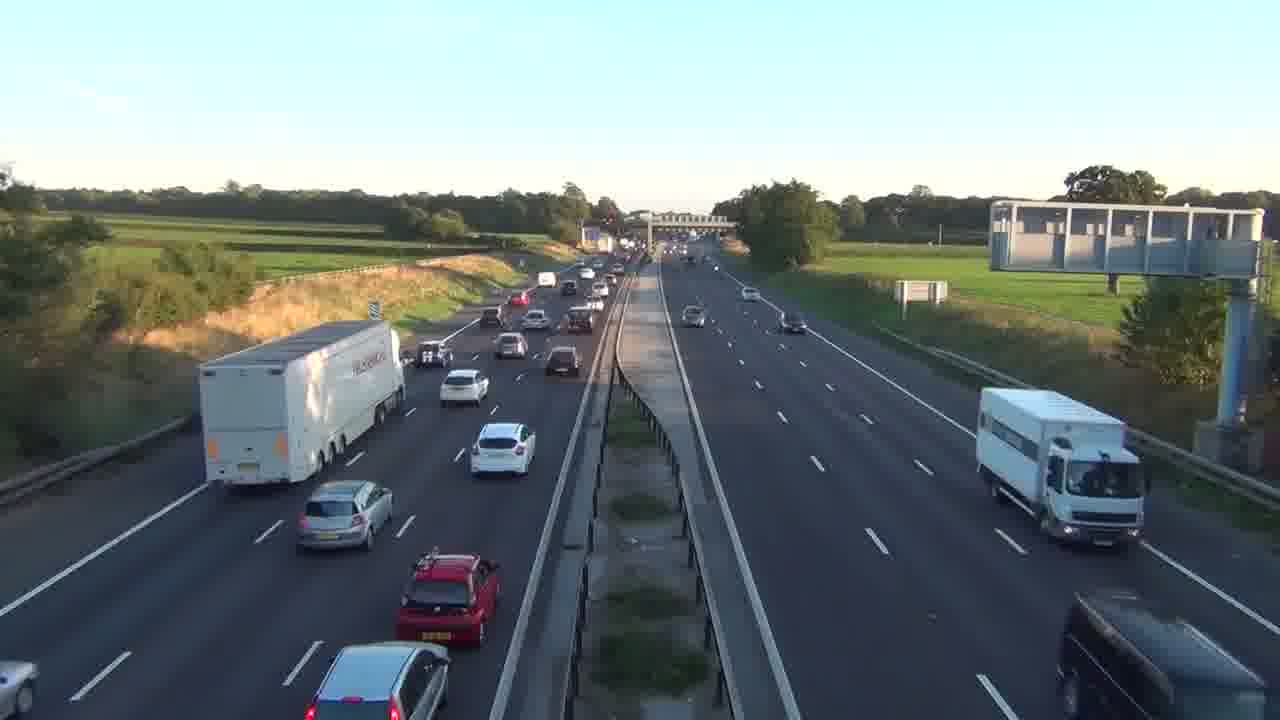car: (303, 641, 451, 719), (392, 548, 501, 648), (295, 479, 394, 553), (469, 423, 536, 479), (1, 660, 39, 719), (439, 368, 489, 407), (544, 345, 580, 376), (494, 332, 529, 359), (681, 305, 705, 327)
truck: (198, 319, 407, 492), (974, 385, 1150, 549)
